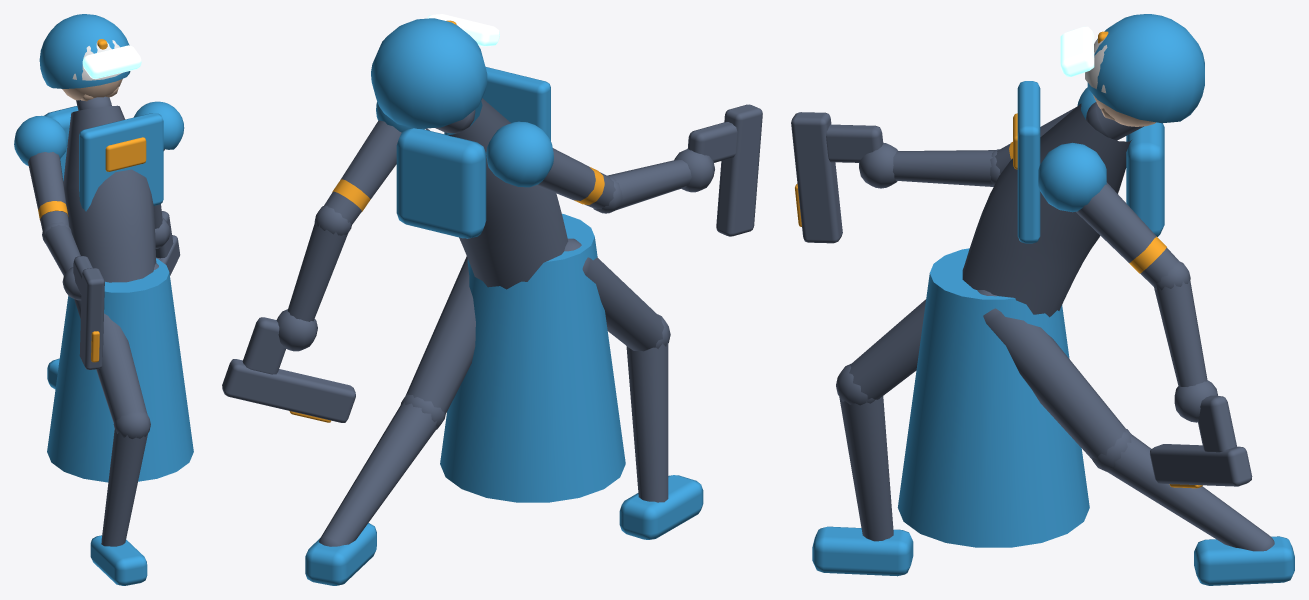
The model's file is hero-shooter-harbour-payload-hero-sable-dash-lunge-67f1f7d9__27652.glb.
3 renders of one model, left to right at view 1: azimuth 30°, elevation 25°; view 2: azimuth 150°, elevation 25°; view 3: azimuth 270°, elevation 25°, orthographic. The views are drawn at different scales.
Parts seen in each view (by area): view 1: hero-sable-dash-lunge, visor; view 2: hero-sable-dash-lunge, visor; view 3: hero-sable-dash-lunge, visor.
Part boxes in pixels (x1=…): hero-sable-dash-lunge: x1=14, y1=14, x2=193, y2=585; visor: x1=82, y1=45, x2=141, y2=79; hero-sable-dash-lunge: x1=222, y1=18, x2=762, y2=585; visor: x1=427, y1=14, x2=499, y2=46; hero-sable-dash-lunge: x1=791, y1=14, x2=1294, y2=585; visor: x1=1060, y1=26, x2=1094, y2=76.
Bounding box in the file's own units: 0.8318 × 1.4 × 1.07.
